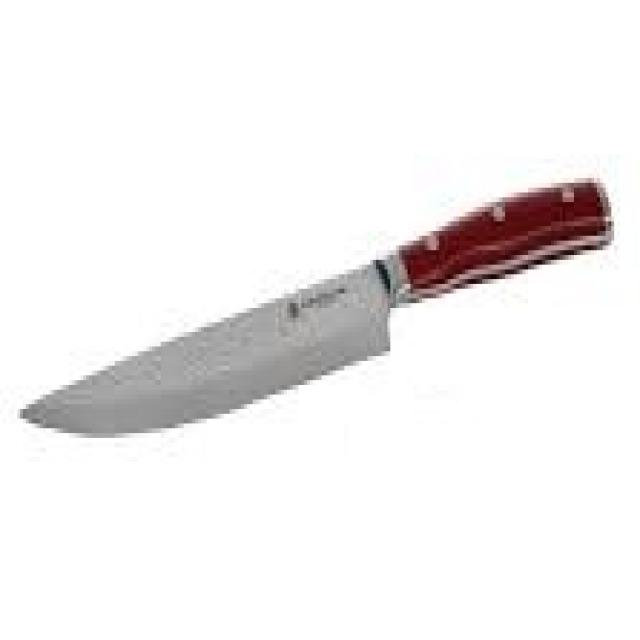knife: (12, 177, 617, 443)
